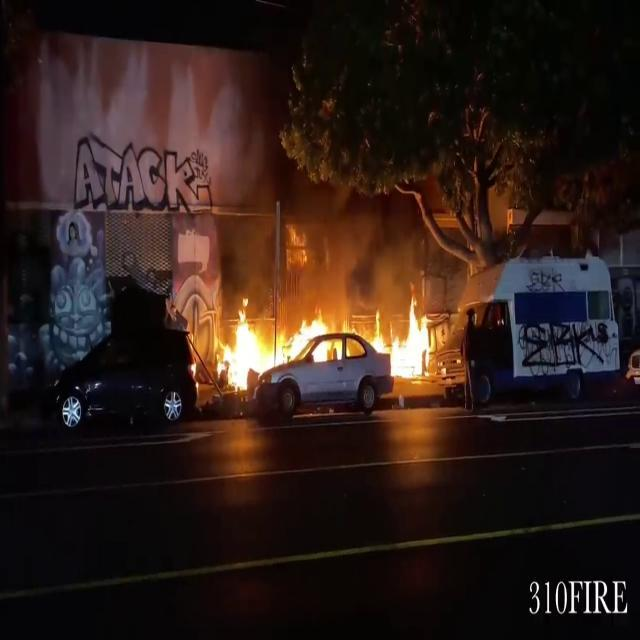Fire: (211, 295, 370, 397), (384, 290, 442, 384)
Smoke: (301, 178, 411, 308)
